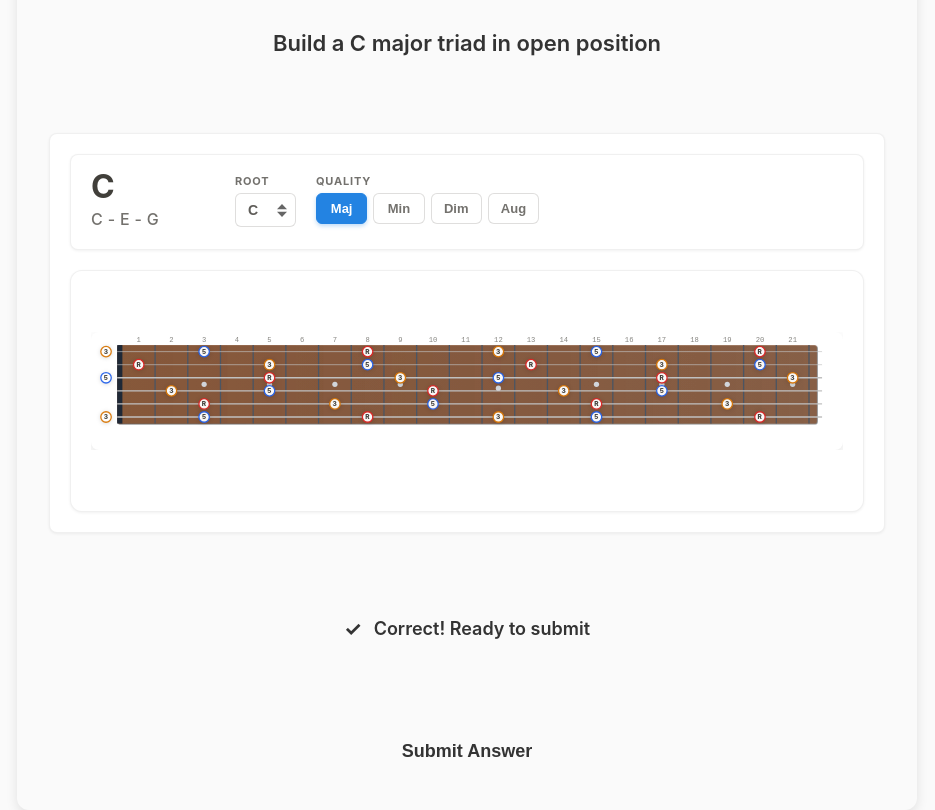
ConstructionMode Component › Timer Functionality › stops timer when answer is submitted
(page scrolled)
expect the text "Correct! Ready to submit" is shown: met, box [374, 615, 590, 644]
Click the button "Submit Answer" at (467,752), box [370, 725, 564, 778]
(page scrolled)
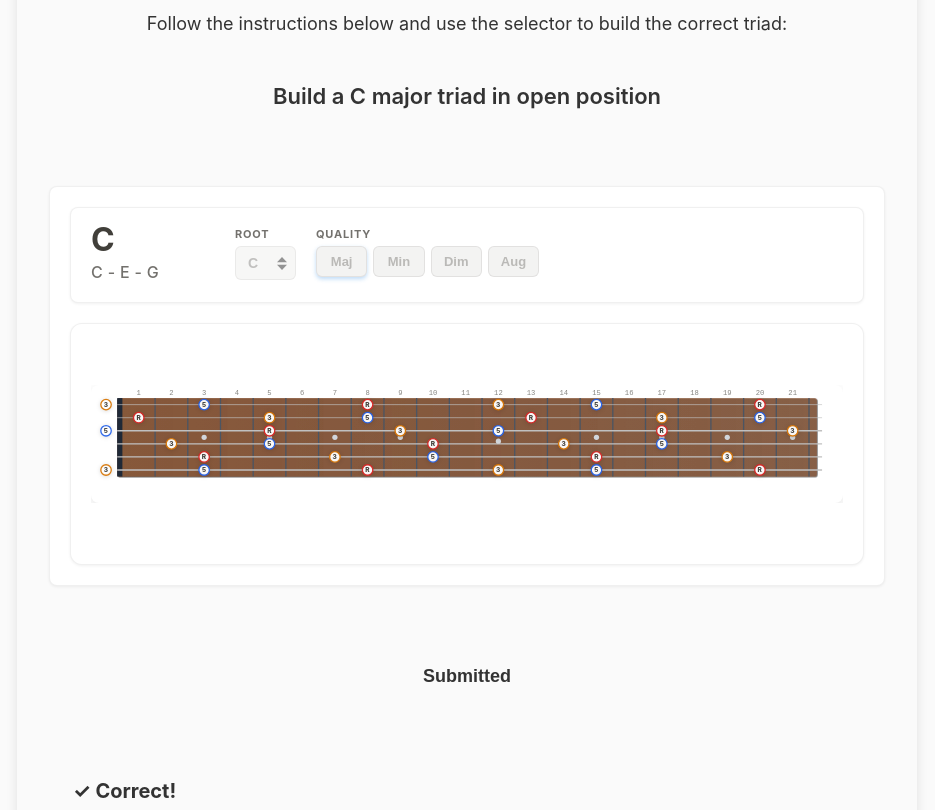
expect the button named "submit answer" reads "Submitted": met, box [387, 650, 547, 703]
